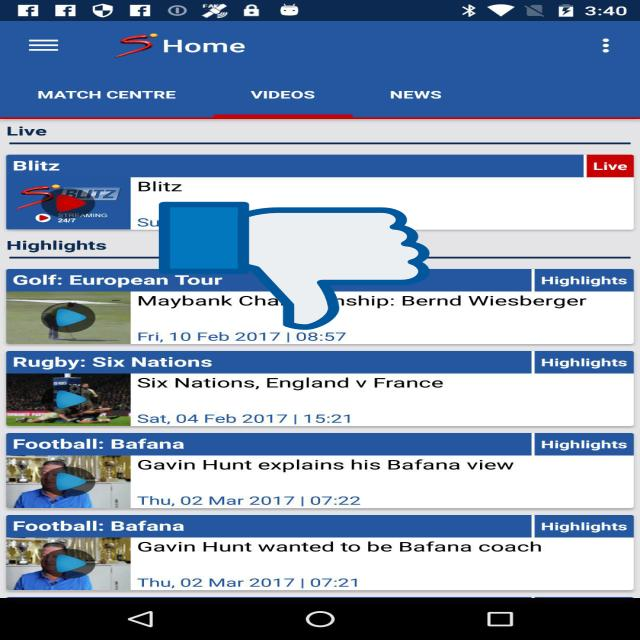obstruction: (158, 199, 430, 333)
